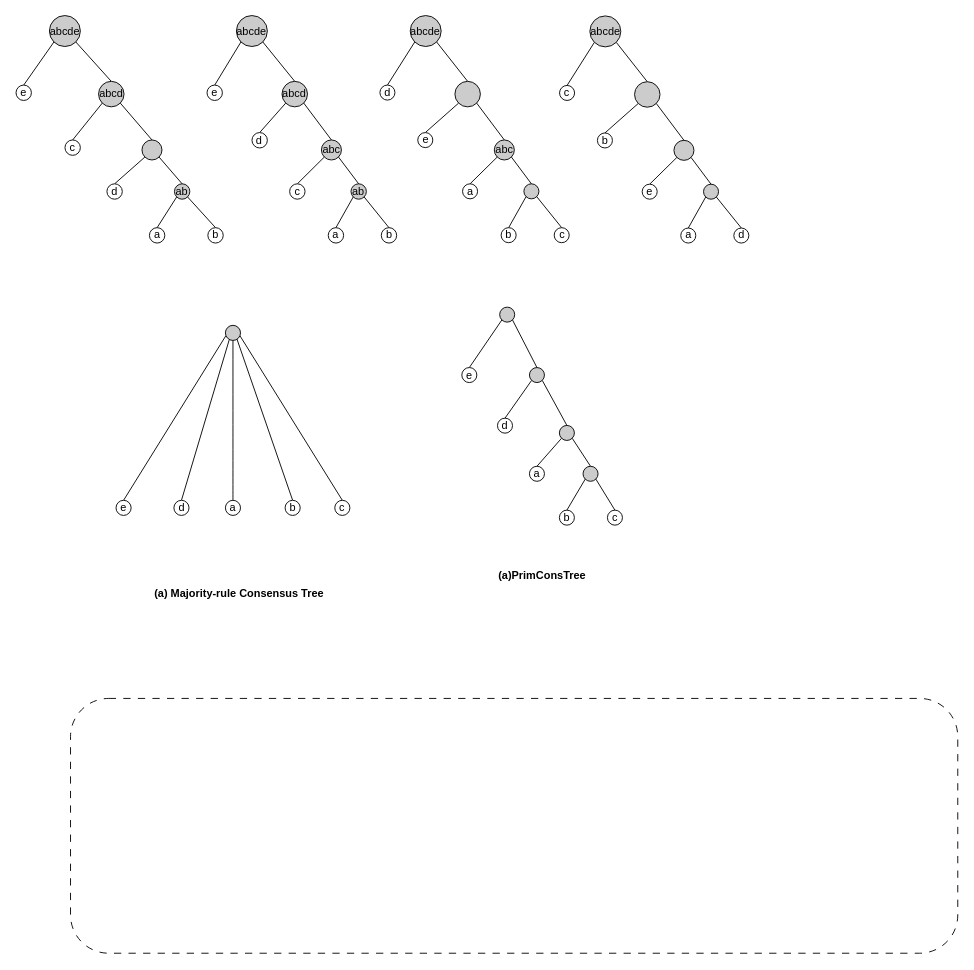
Image size: 974x970. Some labels were removed from this diagram. Each missing label, with the box of its shape:
abce: (454, 80, 480, 107)
abd: (141, 139, 162, 160)
abde: (634, 81, 660, 107)
ad: (703, 183, 719, 199)
ade: (673, 139, 694, 160)
bc: (523, 183, 539, 199)
